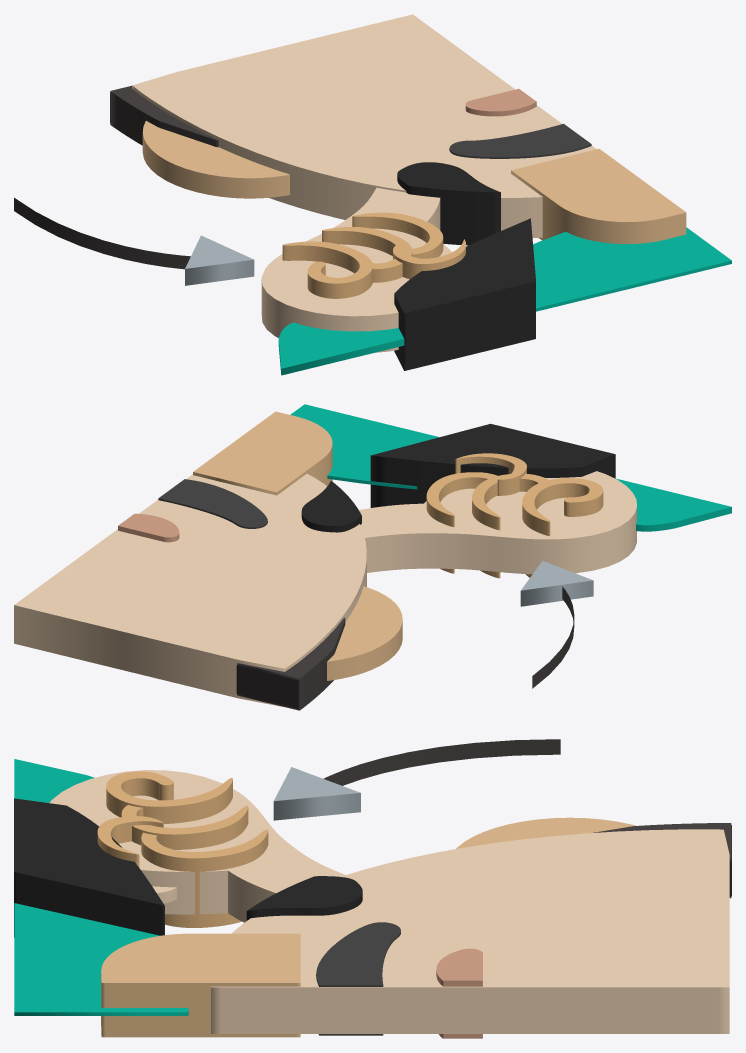
Rendered from emoji_u1f9cf_1f3fb_200d_2642.glb.
3 views of the same model, one above another, from view 1: azimuth 30°, elevation 25°; view 2: azimuth 150°, elevation 25°; view 3: azimuth 270°, elevation 25° (orthographic). The views are drawn at different scales.
Visible parts, largest first — view 1: emoji_u1f9cf_1f3fb_200d_2642; view 2: emoji_u1f9cf_1f3fb_200d_2642; view 3: emoji_u1f9cf_1f3fb_200d_2642.
Boxes of the visible parts, x1,y1,x2,y2 form: emoji_u1f9cf_1f3fb_200d_2642: (14,14,731,375); emoji_u1f9cf_1f3fb_200d_2642: (14,404,731,710); emoji_u1f9cf_1f3fb_200d_2642: (14,739,731,1038).
Bounding box in the file's own units: 0.0296 × 0.0042 × 0.0336.
